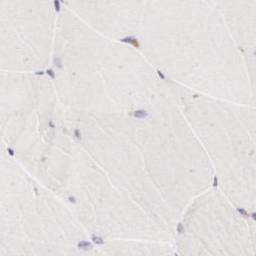nucleus: (132, 109, 148, 118), (77, 240, 92, 249), (237, 208, 249, 218), (92, 234, 103, 244), (53, 1, 62, 12), (120, 35, 134, 42), (212, 174, 219, 188), (54, 56, 61, 67), (47, 120, 55, 128), (158, 70, 165, 79), (47, 69, 54, 78), (34, 70, 45, 75), (69, 196, 76, 203), (192, 93, 200, 99), (7, 148, 13, 155), (75, 130, 80, 137), (178, 224, 181, 233), (252, 213, 256, 218)
positive_cell: (119, 36, 140, 48)
